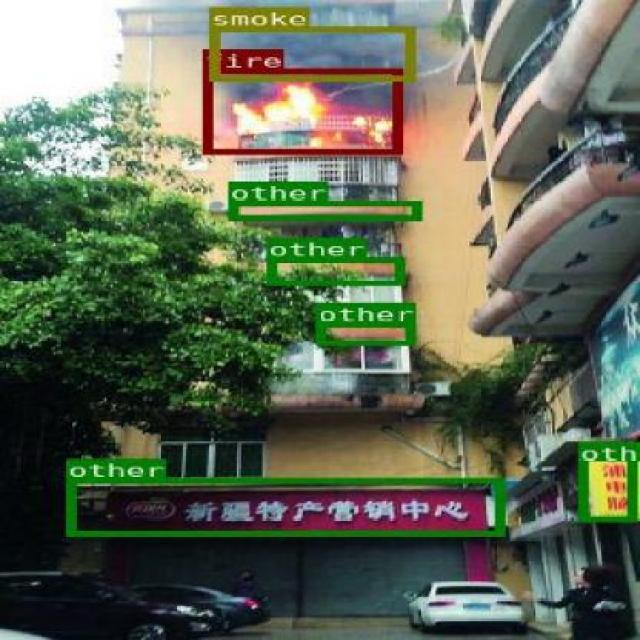Fire: (201, 68, 401, 154)
Smoke: (208, 26, 414, 80)
